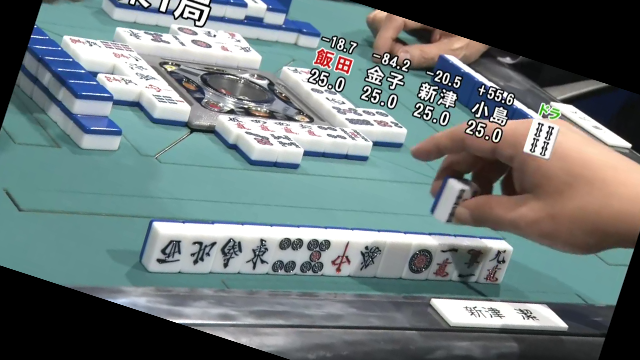Tehai: (143, 227, 514, 286)
